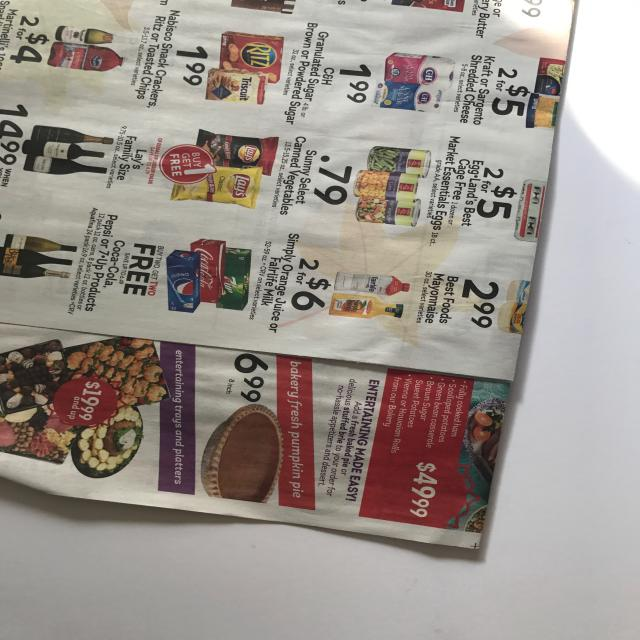Paper: (0, 0, 585, 565)
